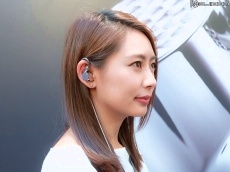earphone: (76, 60, 96, 88)
